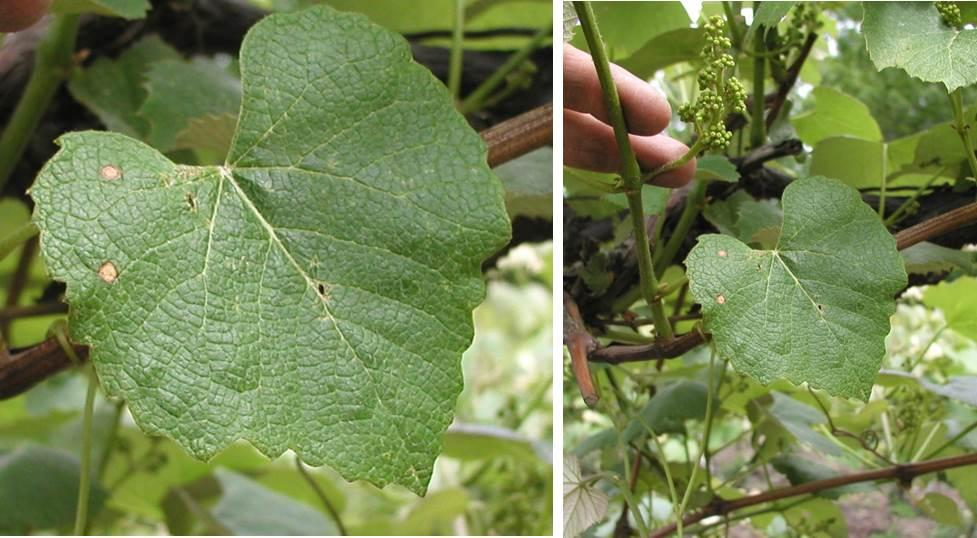grape leaf: (32, 8, 507, 498), (677, 169, 906, 409)
